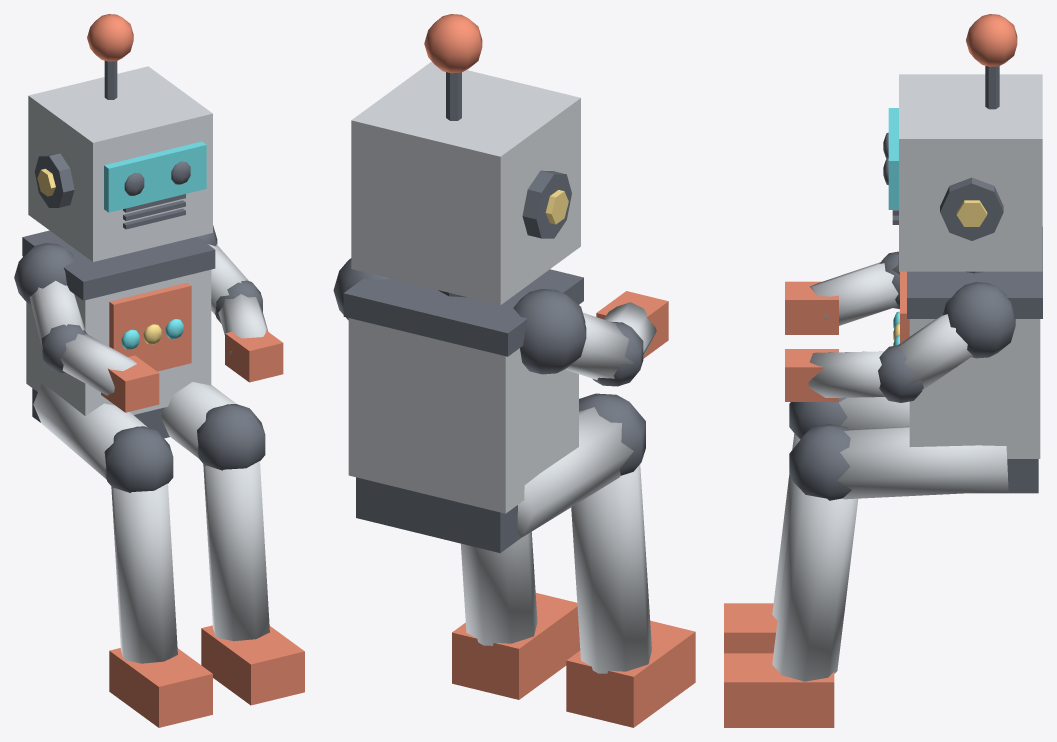
File: meeple_02_roboter.glb
3 views of the same model, side by side, from view 1: azimuth 30°, elevation 25°; view 2: azimuth 150°, elevation 25°; view 3: azimuth 270°, elevation 25° (orthographic). The views are drawn at different scales.
Visible parts, largest first — view 1: meeple_02_roboter; view 2: meeple_02_roboter; view 3: meeple_02_roboter.
Boxes of the visible parts, box(x1,y1,x2,y2) form: meeple_02_roboter: box(14, 14, 304, 727); meeple_02_roboter: box(333, 14, 695, 727); meeple_02_roboter: box(724, 14, 1042, 727).
Size of the model in its own units: 0.5423 by 1.45 by 0.622.
